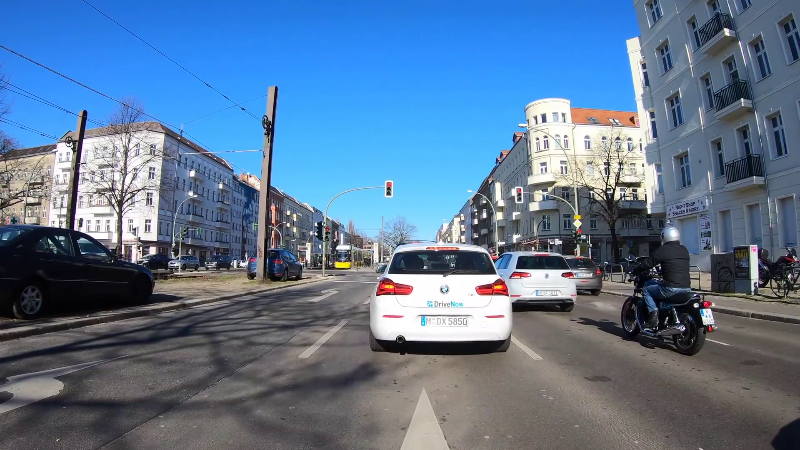Plate: (417, 313, 470, 329), (534, 288, 560, 298), (576, 272, 594, 278)
